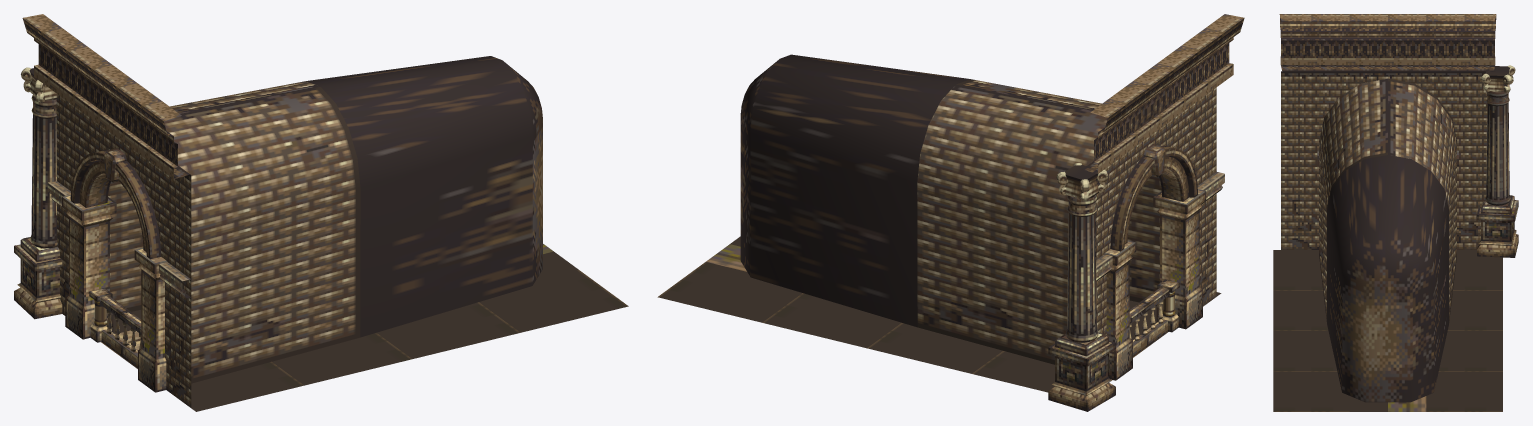
File: EnvBdgMD_Festival_A_Outdoor_A_2F.FBX
The picture shows the model from 3 angles, left to right: view 1: azimuth 30°, elevation 25°; view 2: azimuth 150°, elevation 25°; view 3: azimuth 270°, elevation 25°; orthographic projection. The views are drawn at different scales.
Parts seen in each view (by area): view 1: EnvBdgMD_Festival_A_Outdoor_A_2F; view 2: EnvBdgMD_Festival_A_Outdoor_A_2F; view 3: EnvBdgMD_Festival_A_Outdoor_A_2F.
Part boxes in pixels (x1,y1,x2,y2): EnvBdgMD_Festival_A_Outdoor_A_2F: (14,14,628,411); EnvBdgMD_Festival_A_Outdoor_A_2F: (657,14,1244,411); EnvBdgMD_Festival_A_Outdoor_A_2F: (1273,14,1518,411).
Size of the model in its own units: 1065 by 650 by 641.
